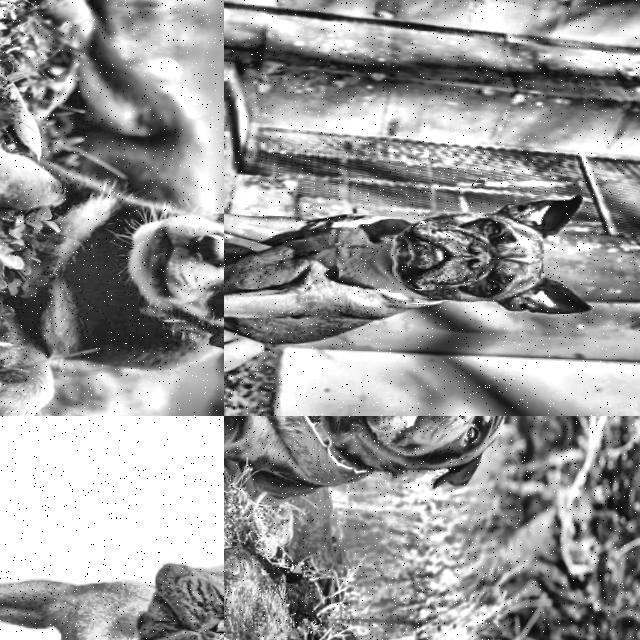bulldog: (354, 184, 618, 332), (106, 520, 224, 640)
rottweiler: (87, 156, 224, 403), (328, 416, 534, 523)
